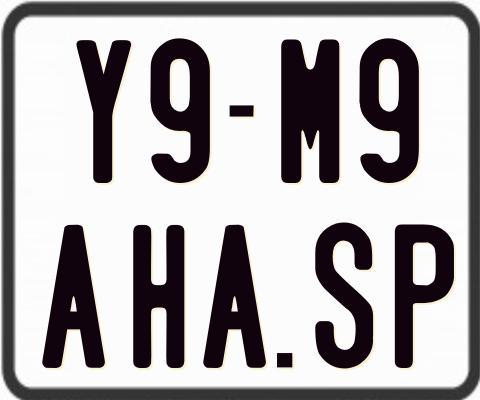9: (358, 35, 422, 184), (150, 37, 210, 183)
A: (42, 224, 111, 373), (200, 223, 266, 372)
H: (130, 225, 187, 372)
M: (279, 36, 342, 182)
P: (394, 224, 453, 373)
S: (315, 219, 378, 369)
Y: (76, 38, 131, 184)
